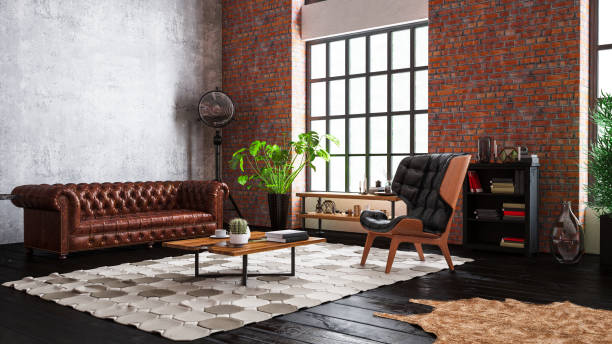chair: (358, 152, 472, 276)
large plant: (230, 128, 324, 227), (590, 91, 612, 269)
small plant: (227, 216, 251, 245)
sofa: (8, 179, 234, 261)
table: (160, 228, 329, 285)
